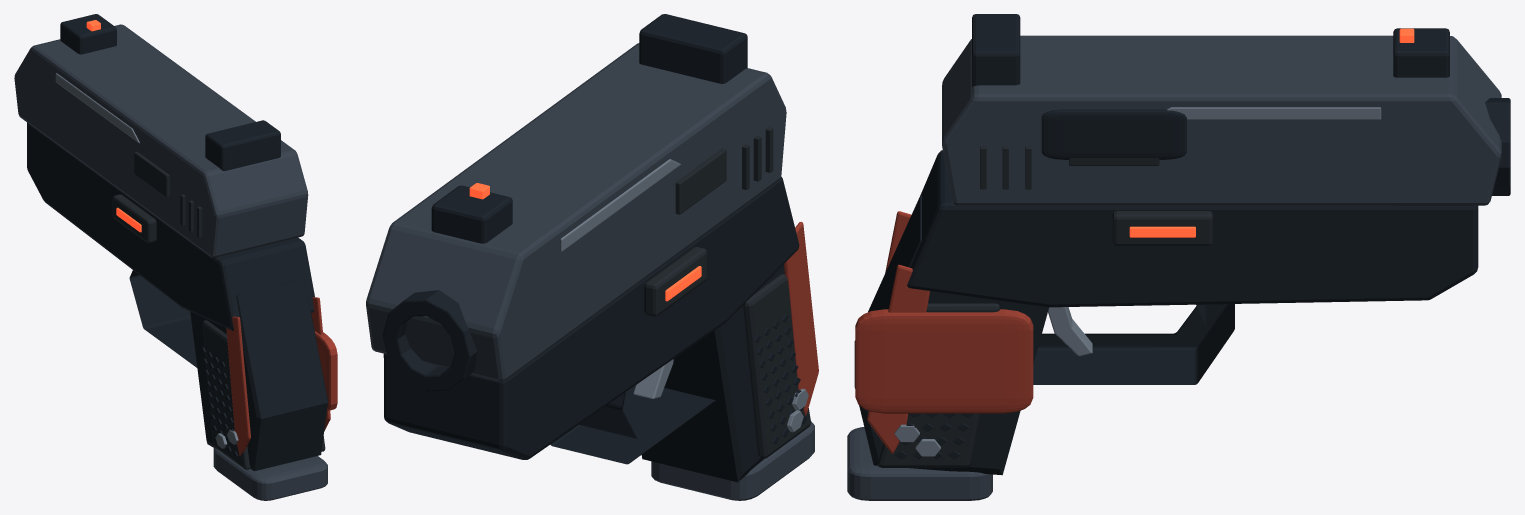
Rendered from pistol.glb.
3 views of the same model, side by side, from view 1: azimuth 30°, elevation 25°; view 2: azimuth 150°, elevation 25°; view 3: azimuth 270°, elevation 25° (orthographic). The views are drawn at different scales.
Parts seen in each view (by area): view 1: pistol; view 2: pistol; view 3: pistol.
Part boxes in pixels (bbox=[...]): pistol: bbox=[14, 14, 337, 500]; pistol: bbox=[366, 14, 818, 500]; pistol: bbox=[847, 14, 1510, 500].
Size of the model in its own units: 0.1308 by 0.3733 by 0.5002.
